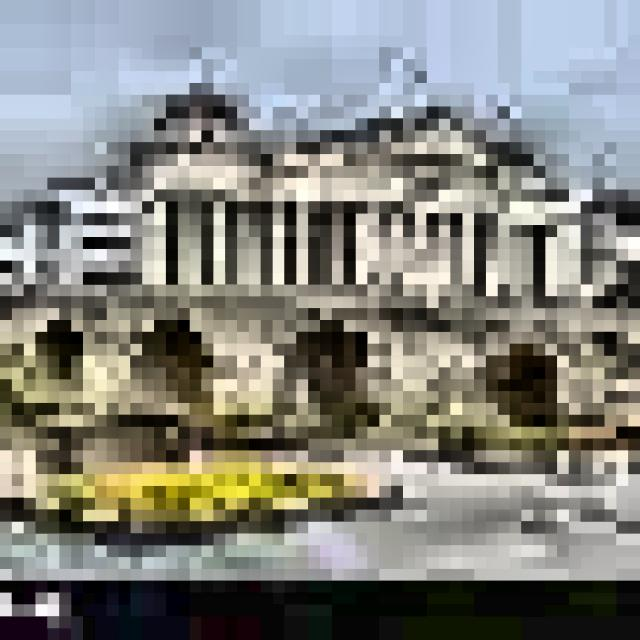stone bridge: (0, 270, 640, 440)
